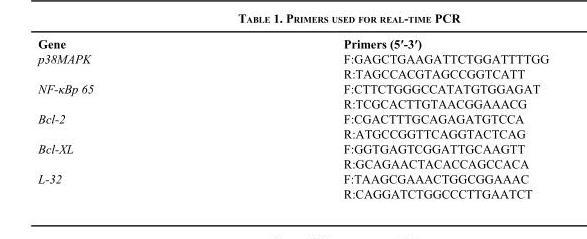table: (37, 36, 548, 200)
table column: (217, 36, 548, 200), (37, 36, 217, 200)
table column header: (37, 36, 548, 50)
table row: (37, 50, 548, 65), (37, 65, 548, 80), (37, 80, 548, 95), (37, 95, 548, 110), (37, 110, 548, 125), (37, 125, 548, 140), (37, 140, 548, 155), (37, 155, 548, 170), (37, 170, 548, 185), (37, 185, 548, 200), (37, 36, 548, 50)
table spanning cell: (37, 50, 217, 80), (37, 80, 217, 110), (37, 110, 217, 140), (37, 140, 217, 170), (37, 170, 217, 200)
